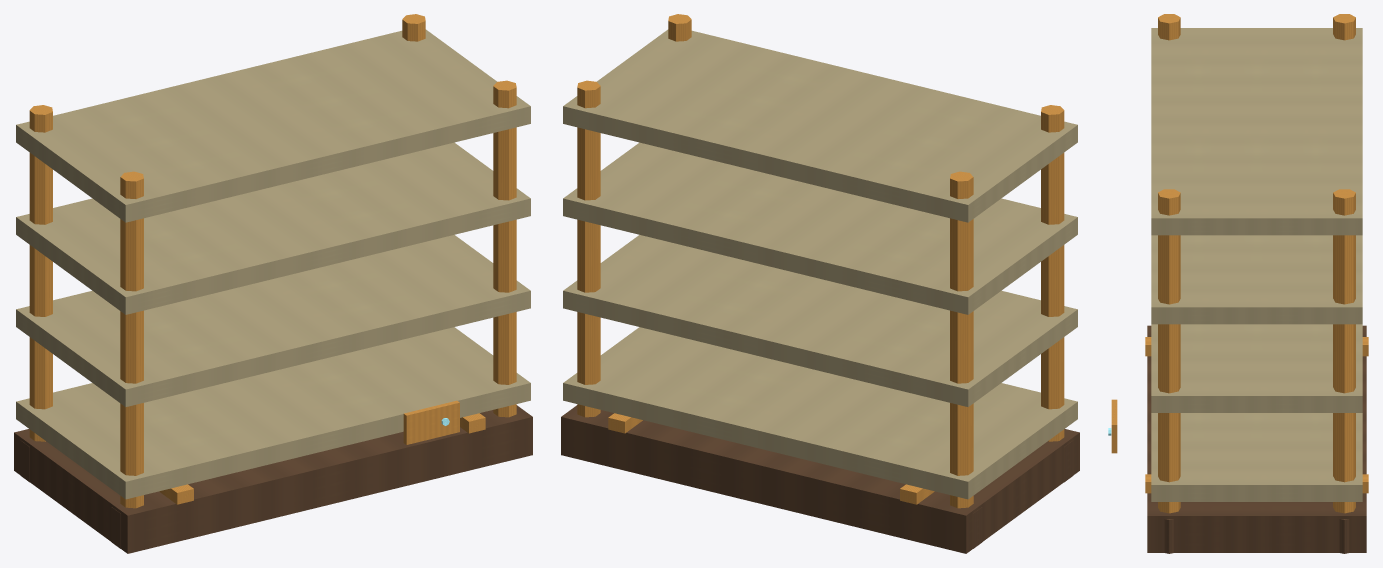
File: atlas100-s012-a06.lod1.glb
3 views of the same model, side by side, from view 1: azimuth 30°, elevation 25°; view 2: azimuth 150°, elevation 25°; view 3: azimuth 270°, elevation 25° (orthographic). The views are drawn at different scales.
Visible parts, largest first — view 1: atlas100-s012-a06:part-014, atlas100-s012-a06:part-012, atlas100-s012-a06:part-013, atlas100-s012-a06:part-011, atlas100-s012-a06:part-000, atlas100-s012-a06:part-005, atlas100-s012-a06:part-009, atlas100-s012-a06:part-003, atlas100-s012-a06:part-015; view 2: atlas100-s012-a06:part-014, atlas100-s012-a06:part-011, atlas100-s012-a06:part-012, atlas100-s012-a06:part-013, atlas100-s012-a06:part-000, atlas100-s012-a06:part-003, atlas100-s012-a06:part-007, atlas100-s012-a06:part-005; view 3: atlas100-s012-a06:part-014, atlas100-s012-a06:part-013, atlas100-s012-a06:part-011, atlas100-s012-a06:part-012, atlas100-s012-a06:part-000, atlas100-s012-a06:part-007, atlas100-s012-a06:part-009, atlas100-s012-a06:part-003, atlas100-s012-a06:part-005, atlas100-s012-a06:part-008, atlas100-s012-a06:part-015, atlas100-s012-a06:part-010.
Part boxes in pixels (x1,y1,x2,y2): atlas100-s012-a06:part-014: (16, 29, 530, 222); atlas100-s012-a06:part-012: (16, 235, 530, 406); atlas100-s012-a06:part-013: (16, 142, 530, 314); atlas100-s012-a06:part-011: (16, 327, 530, 499); atlas100-s012-a06:part-000: (14, 405, 532, 553); atlas100-s012-a06:part-005: (120, 171, 143, 508); atlas100-s012-a06:part-009: (493, 80, 516, 417); atlas100-s012-a06:part-003: (29, 105, 52, 441); atlas100-s012-a06:part-015: (403, 400, 459, 444); atlas100-s012-a06:part-014: (563, 29, 1077, 222); atlas100-s012-a06:part-011: (563, 327, 1077, 499); atlas100-s012-a06:part-012: (563, 235, 1077, 406); atlas100-s012-a06:part-013: (563, 142, 1077, 314); atlas100-s012-a06:part-000: (561, 405, 1079, 553); atlas100-s012-a06:part-003: (950, 171, 973, 508); atlas100-s012-a06:part-007: (577, 80, 600, 417); atlas100-s012-a06:part-005: (1041, 105, 1064, 441); atlas100-s012-a06:part-014: (1151, 28, 1362, 235); atlas100-s012-a06:part-013: (1151, 235, 1362, 324); atlas100-s012-a06:part-011: (1151, 413, 1362, 501); atlas100-s012-a06:part-012: (1151, 324, 1362, 412); atlas100-s012-a06:part-000: (1147, 325, 1366, 552); atlas100-s012-a06:part-007: (1333, 189, 1355, 513); atlas100-s012-a06:part-009: (1158, 189, 1180, 513); atlas100-s012-a06:part-003: (1333, 14, 1355, 40); atlas100-s012-a06:part-005: (1158, 14, 1180, 40); atlas100-s012-a06:part-008: (1339, 519, 1349, 553); atlas100-s012-a06:part-015: (1111, 399, 1117, 453); atlas100-s012-a06:part-010: (1164, 519, 1173, 553).
Bounding box in the file's own units: 2.9 × 2.48 × 1.66.
Materials: 4 (4 with a texture image).
